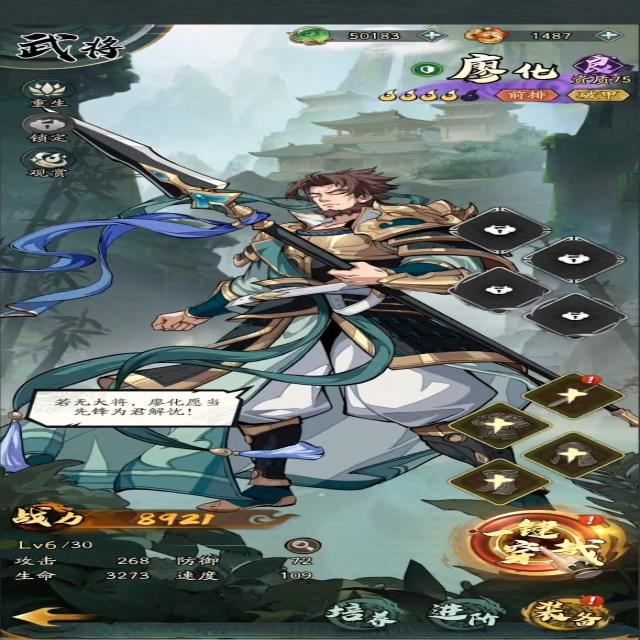hint-guide: (453, 507, 633, 586)
hint-reddot: (576, 372, 606, 389), (583, 593, 603, 610)
operation-advanced: (426, 597, 504, 628)
operation-back: (9, 604, 106, 632)
operation-equipment: (522, 593, 610, 632)
operation-oneKeyEquipment: (471, 510, 624, 577)
operation-train: (325, 599, 407, 630)
